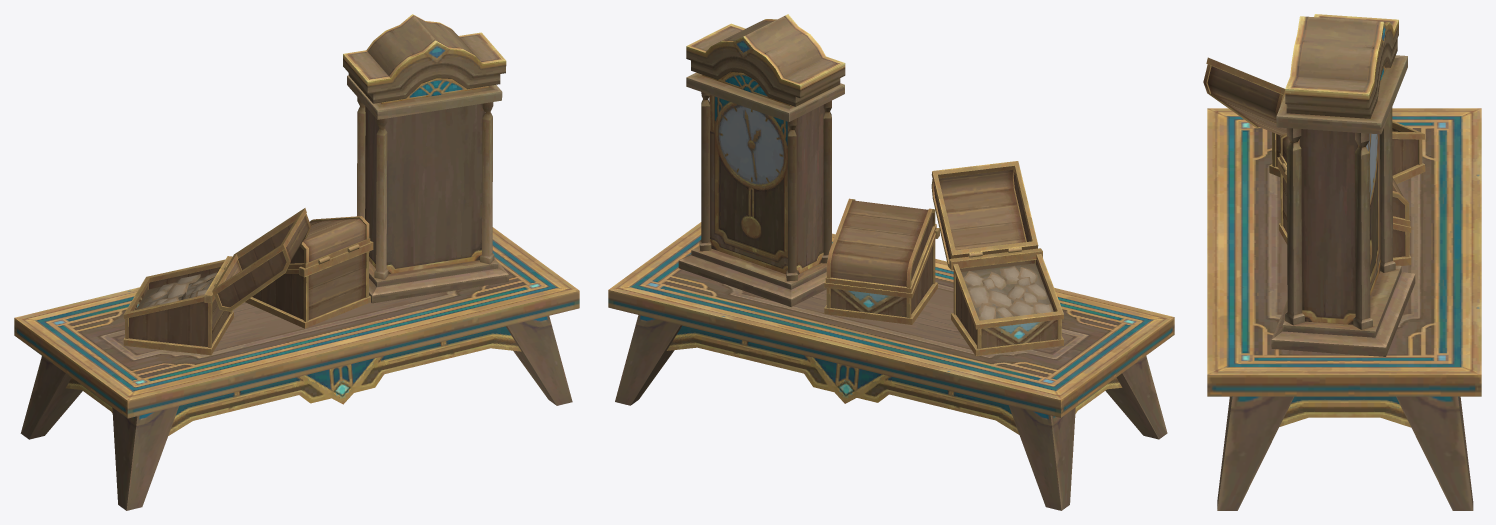
The model's file is Homeworld_Exterior_Fd_Decoration_Prop_ZawuTanwei_01_Vo.fbx.
3 renders of one model, left to right at view 1: azimuth 30°, elevation 25°; view 2: azimuth 150°, elevation 25°; view 3: azimuth 270°, elevation 25°, orthographic. The views are drawn at different scales.
Parts seen in each view (by area): view 1: Area_Fd_Prop_FDC_Tanwei_08_Vo, Area_Fd_Prop_FDC_Zbdwujian_02_Vo, Area_Fd_Prop_FDC_Jpdwujian_03_Lod0, Area_Fd_Prop_FDC_Jpdwujian_01_Vo; view 2: Area_Fd_Prop_FDC_Tanwei_08_Vo, Area_Fd_Prop_FDC_Zbdwujian_02_Vo, Area_Fd_Prop_FDC_Jpdwujian_03_Lod0, Area_Fd_Prop_FDC_Jpdwujian_01_Vo; view 3: Area_Fd_Prop_FDC_Tanwei_08_Vo, Area_Fd_Prop_FDC_Zbdwujian_02_Vo, Area_Fd_Prop_FDC_Jpdwujian_03_Lod0, Area_Fd_Prop_FDC_Jpdwujian_01_Vo.
Part boxes in pixels (x1=…): Area_Fd_Prop_FDC_Tanwei_08_Vo: x1=14, y1=227, x2=579, y2=510; Area_Fd_Prop_FDC_Zbdwujian_02_Vo: x1=343, y1=14, x2=508, y2=303; Area_Fd_Prop_FDC_Jpdwujian_03_Lod0: x1=123, y1=208, x2=311, y2=355; Area_Fd_Prop_FDC_Jpdwujian_01_Vo: x1=245, y1=216, x2=373, y2=328; Area_Fd_Prop_FDC_Tanwei_08_Vo: x1=608, y1=222, x2=1174, y2=510; Area_Fd_Prop_FDC_Zbdwujian_02_Vo: x1=678, y1=14, x2=845, y2=306; Area_Fd_Prop_FDC_Jpdwujian_03_Lod0: x1=931, y1=161, x2=1063, y2=355; Area_Fd_Prop_FDC_Jpdwujian_01_Vo: x1=824, y1=198, x2=939, y2=324; Area_Fd_Prop_FDC_Tanwei_08_Vo: x1=1207, y1=108, x2=1481, y2=510; Area_Fd_Prop_FDC_Zbdwujian_02_Vo: x1=1271, y1=14, x2=1415, y2=356; Area_Fd_Prop_FDC_Jpdwujian_03_Lod0: x1=1203, y1=57, x2=1425, y2=183; Area_Fd_Prop_FDC_Jpdwujian_01_Vo: x1=1277, y1=133, x2=1411, y2=265.
Bounding box in the file's own units: 1.92 × 1.46 × 0.845.
